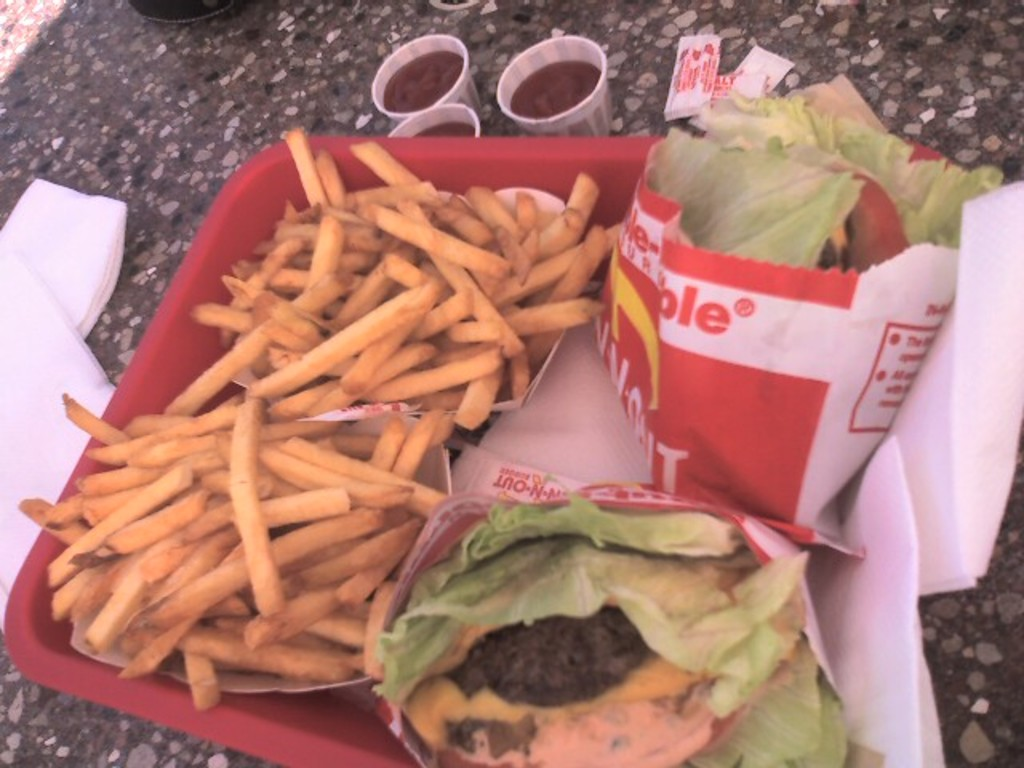French fries: (16, 115, 630, 711)
